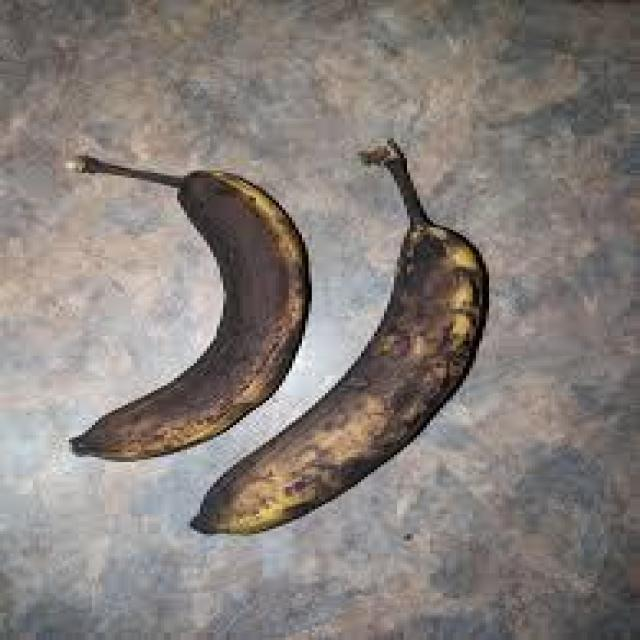Rotten: (176, 130, 537, 570), (21, 133, 320, 465)
